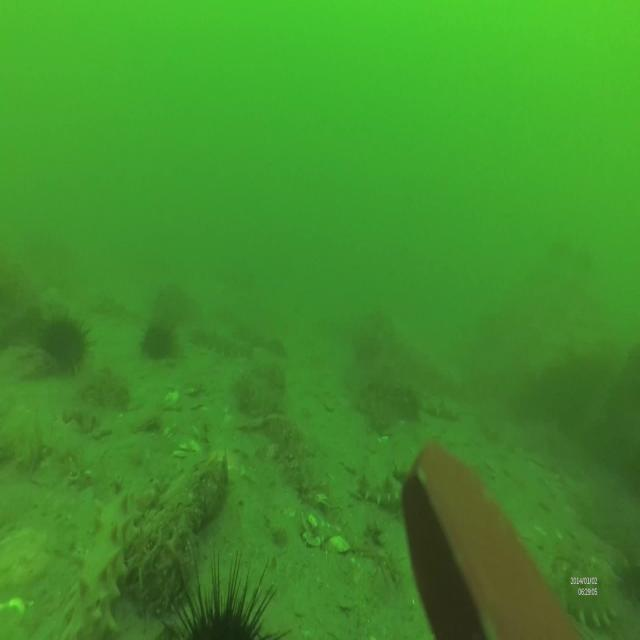echinus: (155, 549, 294, 640), (37, 318, 99, 376), (139, 319, 184, 362)
holothurian: (62, 484, 141, 640), (561, 571, 619, 629), (357, 462, 405, 512), (191, 326, 255, 362), (418, 390, 462, 424)
